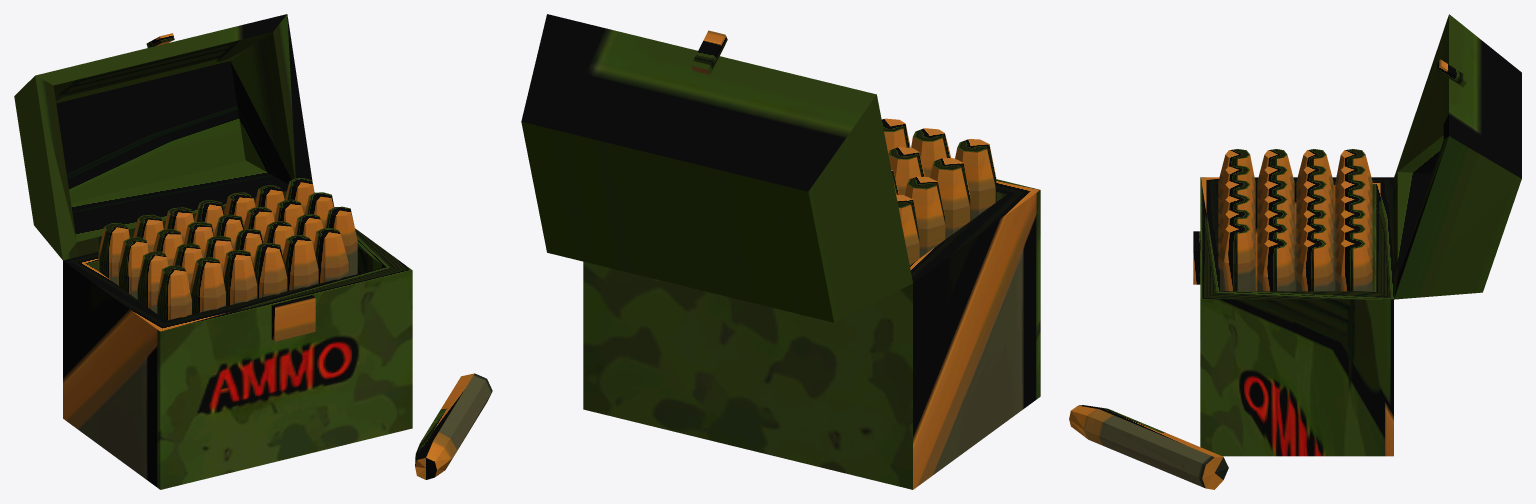
File: BullBox.glb
The picture shows the model from 3 angles, left to right: view 1: azimuth 30°, elevation 25°; view 2: azimuth 150°, elevation 25°; view 3: azimuth 270°, elevation 25°; orthographic projection. The views are drawn at different scales.
Parts seen in each view (by area): view 1: BullBox; view 2: BullBox; view 3: BullBox.
Part boxes in pixels (<box>): BullBox: <box>14,14,492,489</box>; BullBox: <box>521,14,1040,489</box>; BullBox: <box>1069,14,1521,489</box>.
Size of the model in its own units: 81.56 by 78.57 by 96.73.
Materials: 1 (1 with a texture image).
